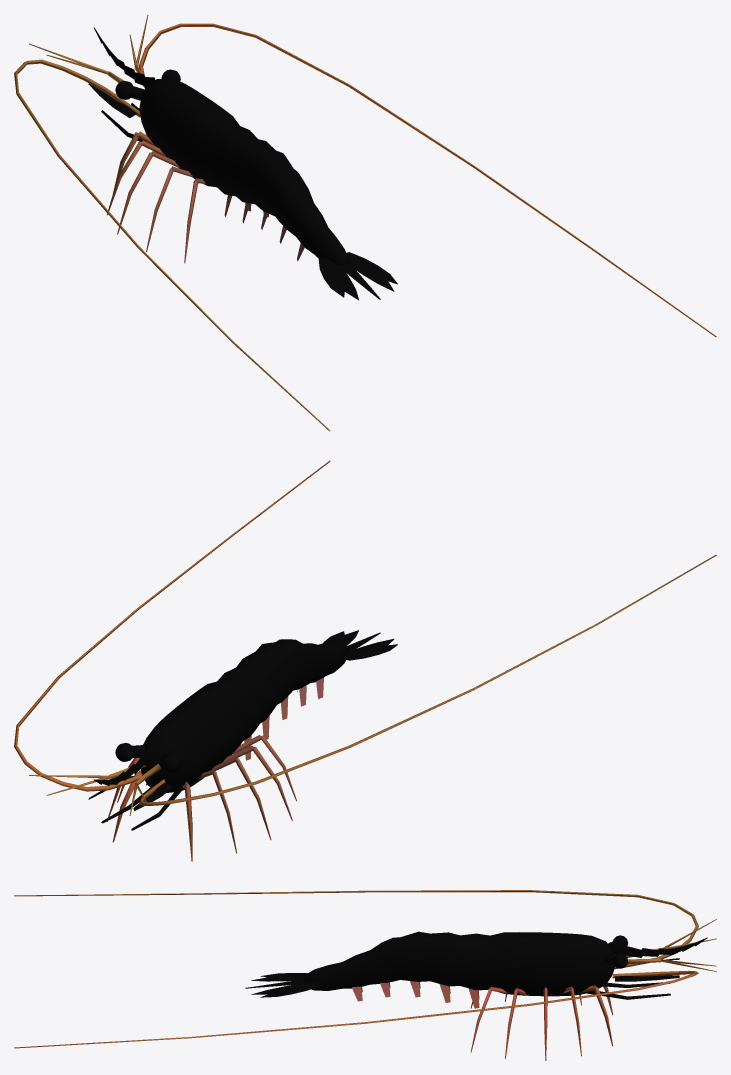
Rendered from spot_prawn_game.glb.
3 renders of one model, top to bottom at view 1: azimuth 30°, elevation 25°; view 2: azimuth 150°, elevation 25°; view 3: azimuth 270°, elevation 25°, orthographic. The views are drawn at different scales.
Visible parts, largest first — view 1: spot_prawn_game; view 2: spot_prawn_game; view 3: spot_prawn_game.
Part boxes in pixels (bbox=[...]): spot_prawn_game: bbox=[14, 15, 716, 431]; spot_prawn_game: bbox=[14, 460, 716, 861]; spot_prawn_game: bbox=[14, 890, 716, 1060].
Bounding box in the file's own units: 0.1565 × 0.0464 × 0.3042.
